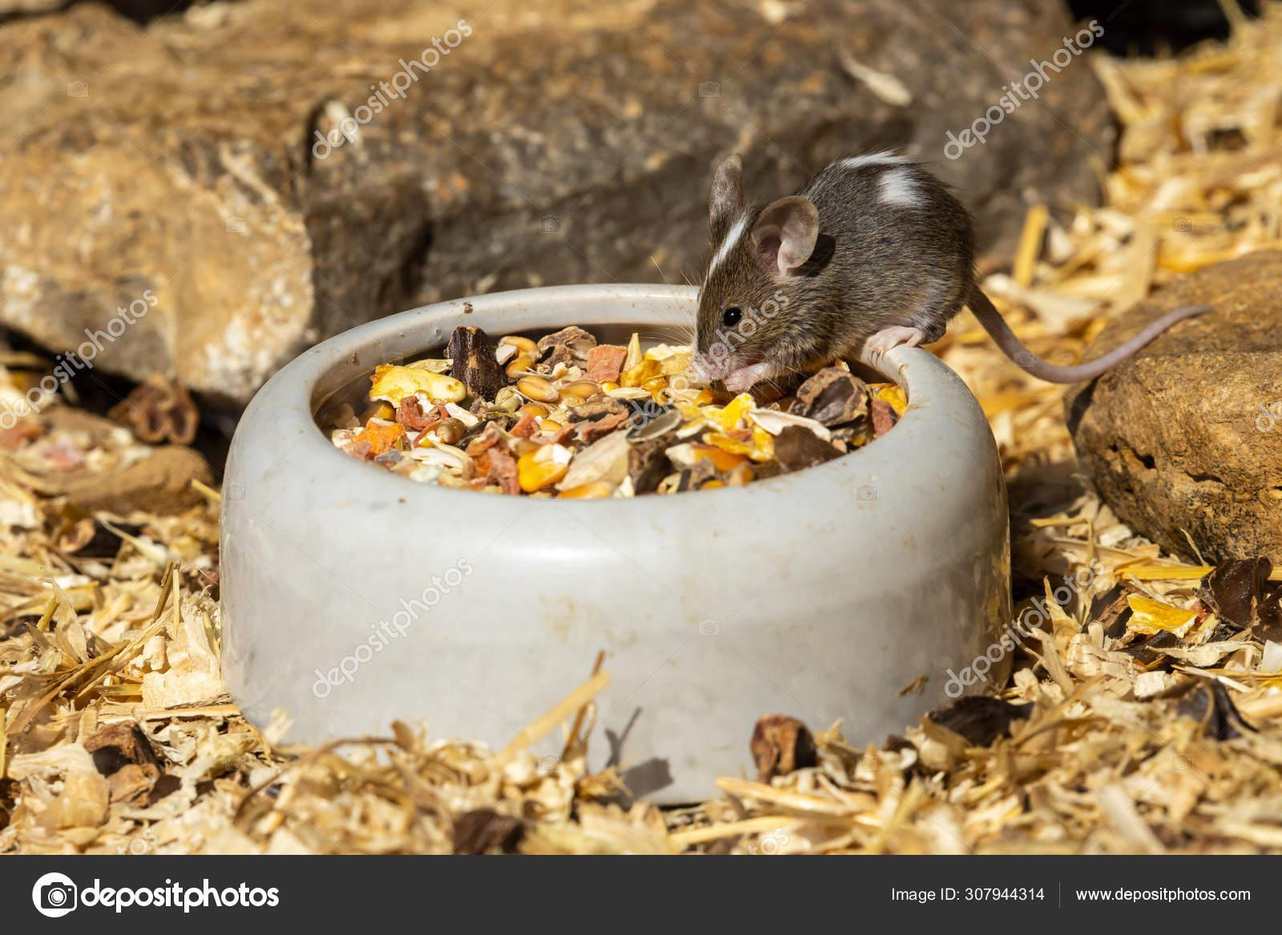rat: (695, 150, 1215, 393)
